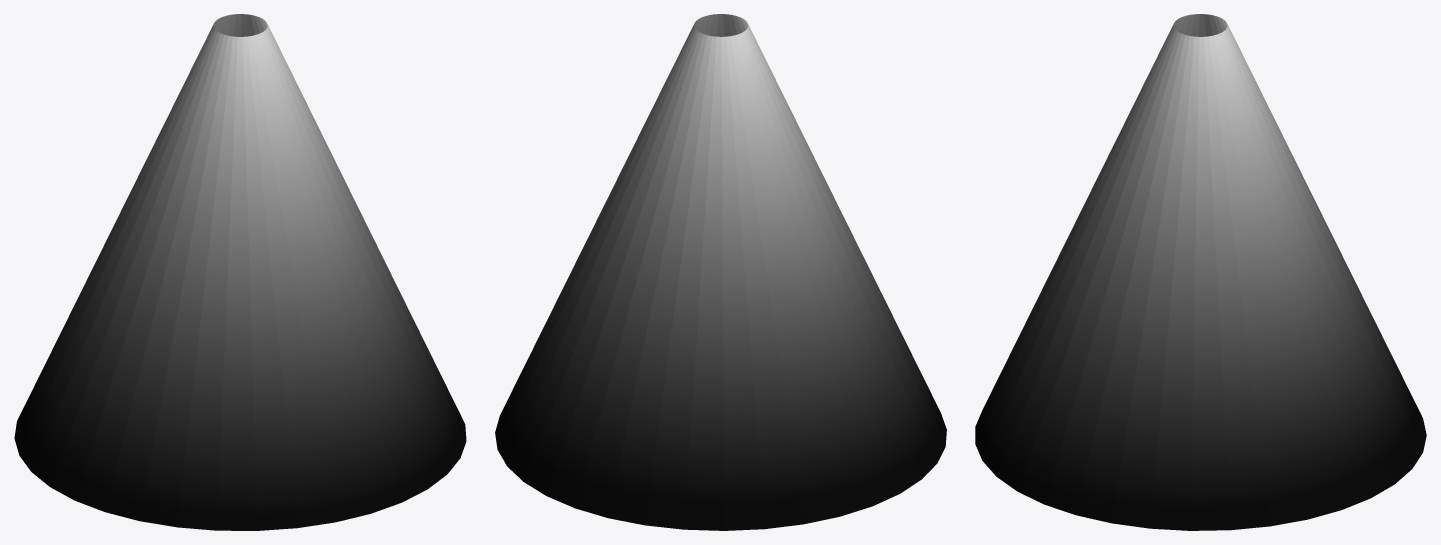
3 views of the same model, side by side, from view 1: azimuth 30°, elevation 25°; view 2: azimuth 150°, elevation 25°; view 3: azimuth 270°, elevation 25° (orthographic).
Visible parts, largest first — view 1: Cone; view 2: Cone; view 3: Cone.
Boxes of the visible parts, x1,y1,x2,y2 form: Cone: (14, 14, 466, 530); Cone: (495, 14, 946, 530); Cone: (975, 14, 1426, 530).
Bounding box in the file's own units: 200 × 200 × 200.
1 material, 1 textured.
